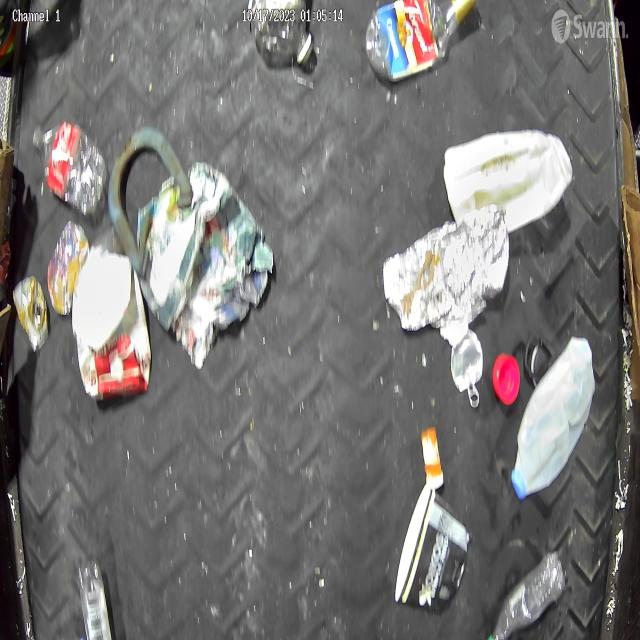can: (14, 274, 51, 353), (451, 326, 484, 390)
milk_jug: (444, 130, 574, 235), (511, 336, 594, 500)
plastic_bottle: (490, 549, 567, 640), (36, 121, 106, 213), (250, 0, 314, 69), (76, 560, 112, 640)
